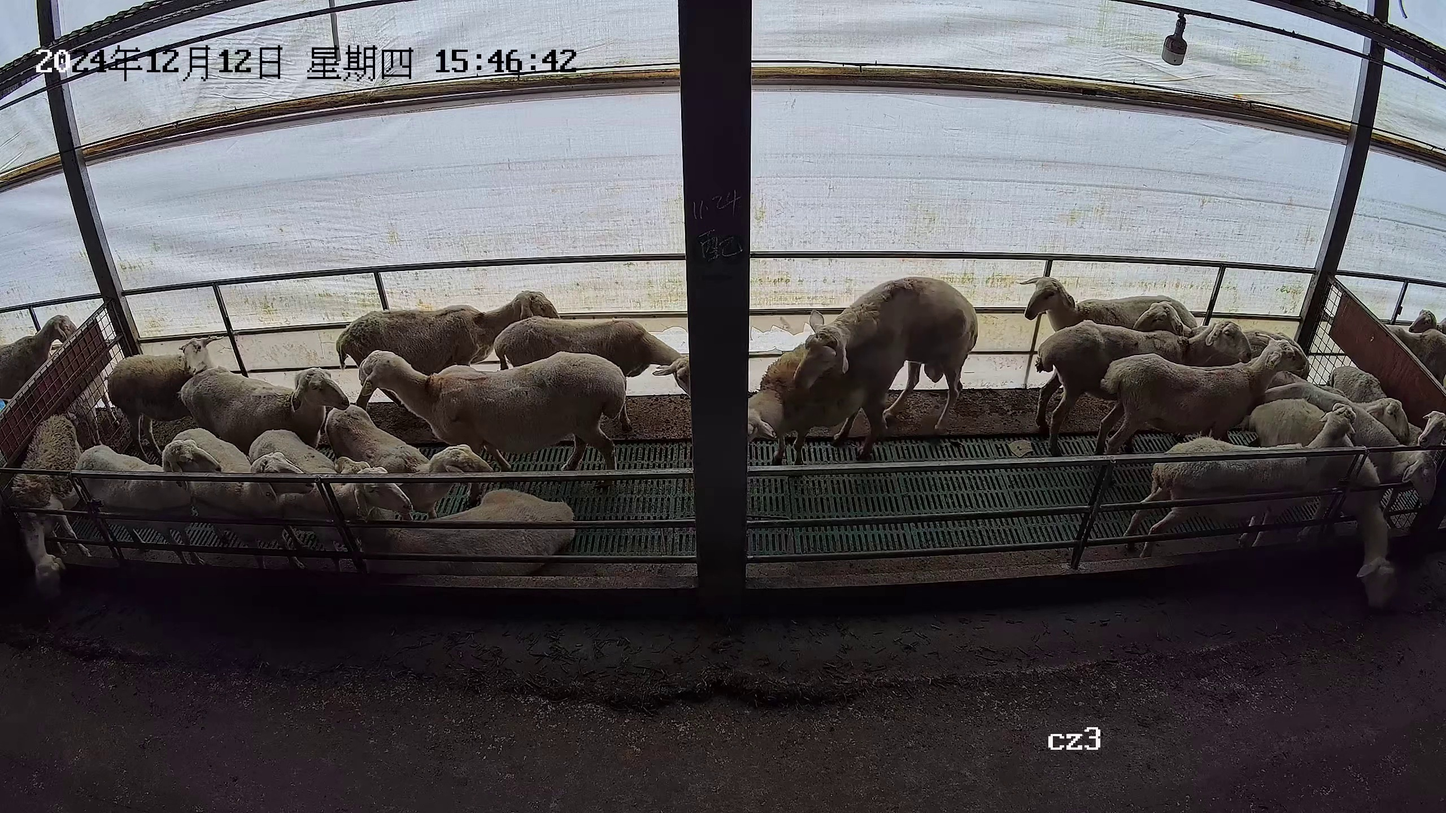Smounting: (744, 274, 982, 469)
mounted: (748, 326, 908, 465)
